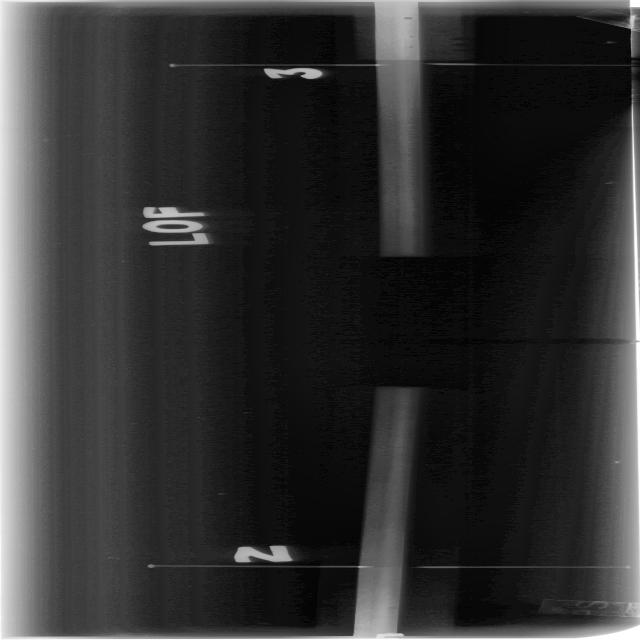LOP: (371, 394, 392, 565)
